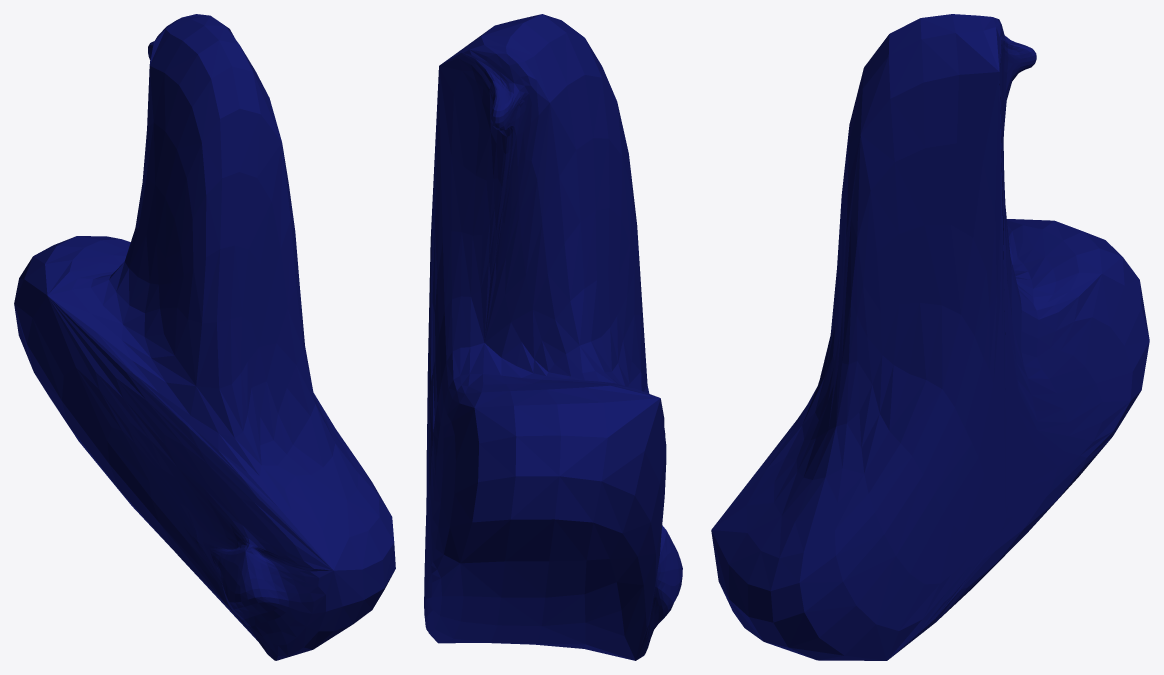
The picture shows the model from 3 angles, left to right: view 1: azimuth 30°, elevation 25°; view 2: azimuth 150°, elevation 25°; view 3: azimuth 270°, elevation 25°; orthographic projection. The views are drawn at different scales.
Parts seen in each view (by area): view 1: 925_Cube.3740; view 2: 925_Cube.3740; view 3: 925_Cube.3740.
Boxes of the visible parts, x1=… form: 925_Cube.3740: x1=14, y1=14, x2=395, y2=660; 925_Cube.3740: x1=424, y1=14, x2=682, y2=660; 925_Cube.3740: x1=711, y1=14, x2=1149, y2=660.
Size of the model in its own units: 6.76 by 14.49 by 9.27.
